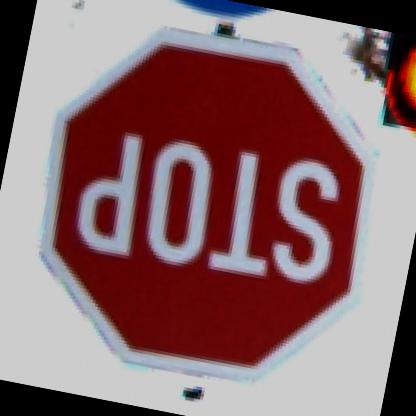stop: (0, 0, 409, 415)
